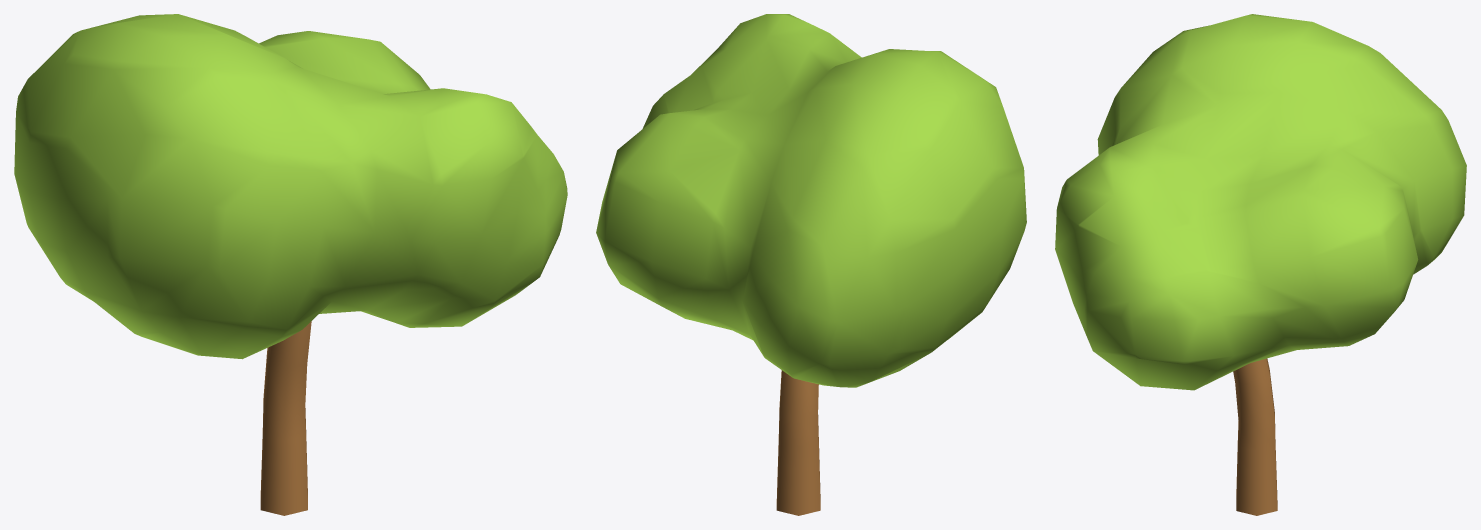
The model's file is tree.3.fbx.
3 renders of one model, left to right at view 1: azimuth 30°, elevation 25°; view 2: azimuth 150°, elevation 25°; view 3: azimuth 270°, elevation 25°, orthographic. The views are drawn at different scales.
Parts seen in each view (by area): view 1: Canopy.003; view 2: Canopy.003; view 3: Canopy.003.
Boxes of the visible parts, x1,y1,x2,y2 form: Canopy.003: (14, 14, 567, 515); Canopy.003: (596, 14, 1026, 515); Canopy.003: (1055, 14, 1466, 515).
Size of the model in its own units: 291 by 317 by 271.
